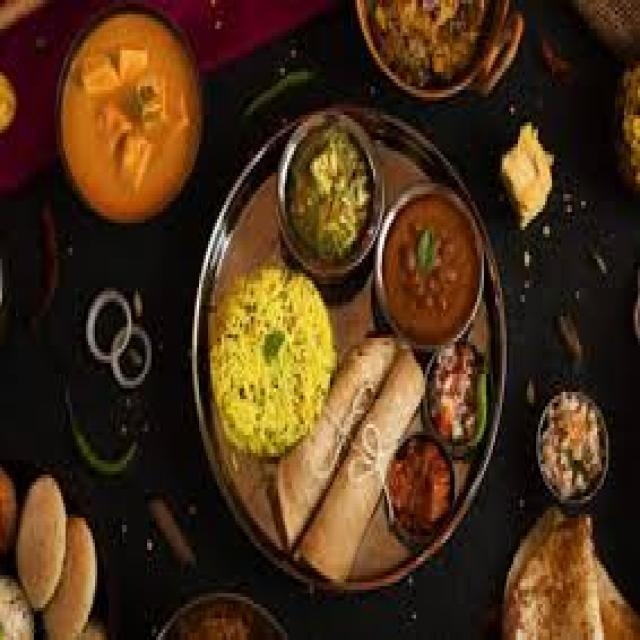dal: (202, 256, 327, 457)
roti: (285, 334, 418, 569)
veg-fry: (373, 170, 489, 363)
